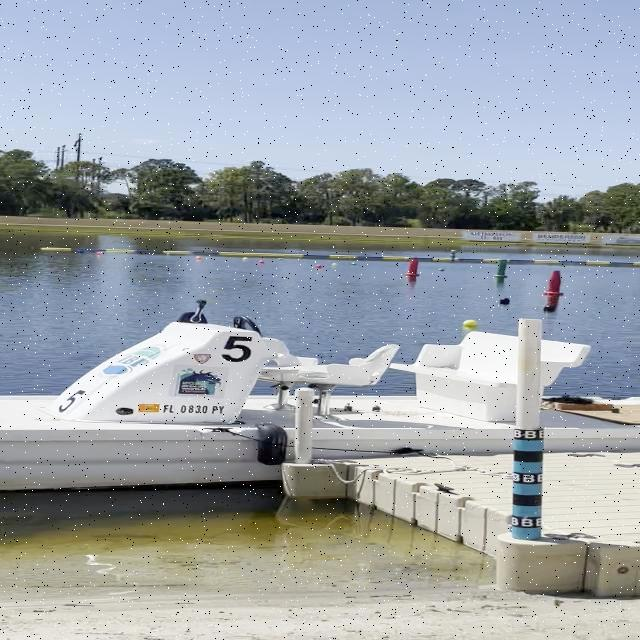buoy: (462, 319, 478, 327), (499, 297, 511, 304), (542, 304, 554, 310), (95, 251, 102, 255), (195, 256, 202, 260), (350, 262, 356, 266), (438, 268, 444, 272), (316, 264, 322, 268), (78, 249, 84, 253), (259, 260, 264, 263), (243, 257, 248, 260), (332, 263, 337, 266), (278, 258, 283, 260), (167, 253, 170, 254)
